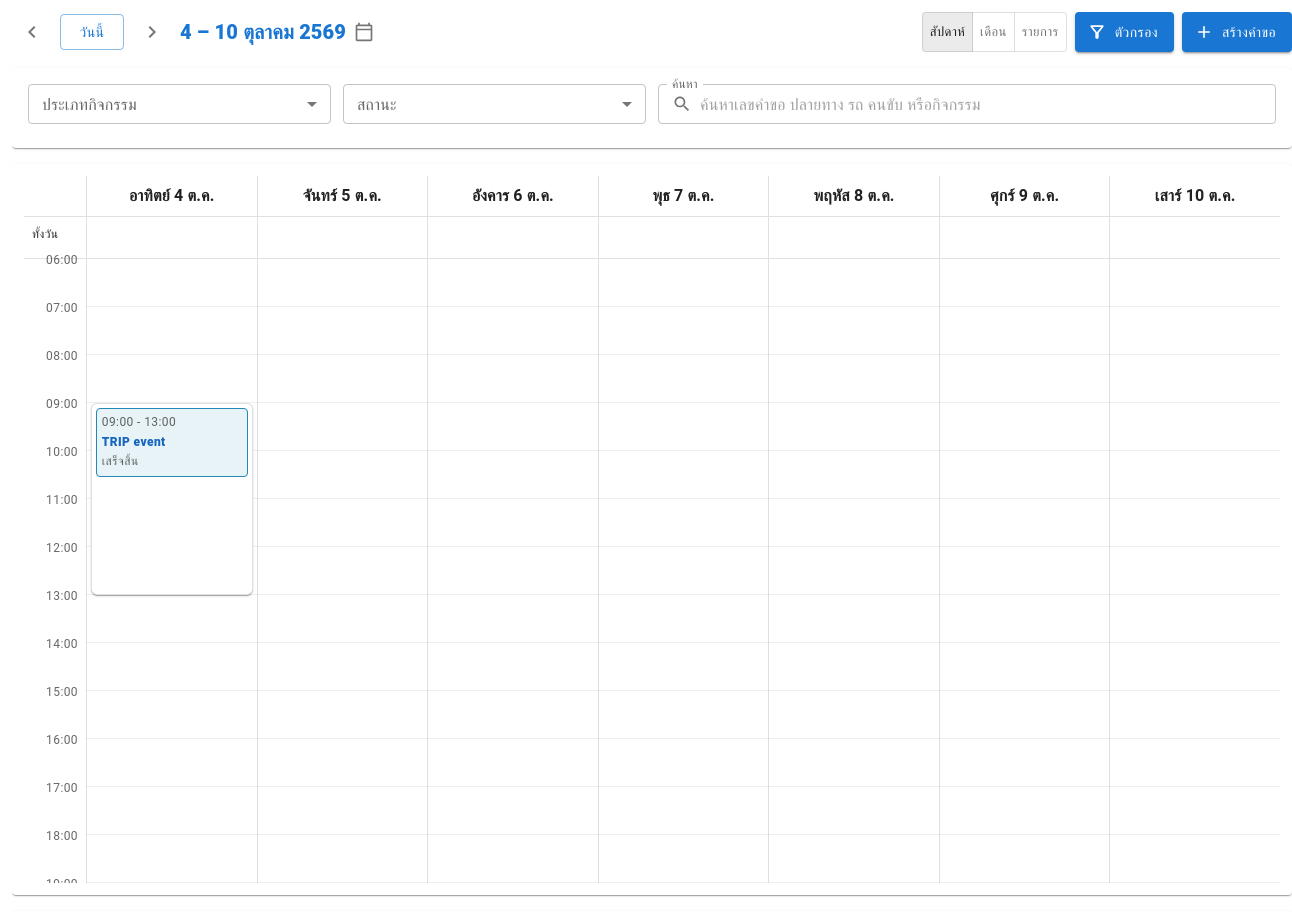
Test: FleetCalendarPage › keeps late actual completion separate from the scheduled calendar dates
Click the button "09:00 - 13:00 TRIP event เสร็จสิ้น" at x=172, y=442, box [96,408,248,477]
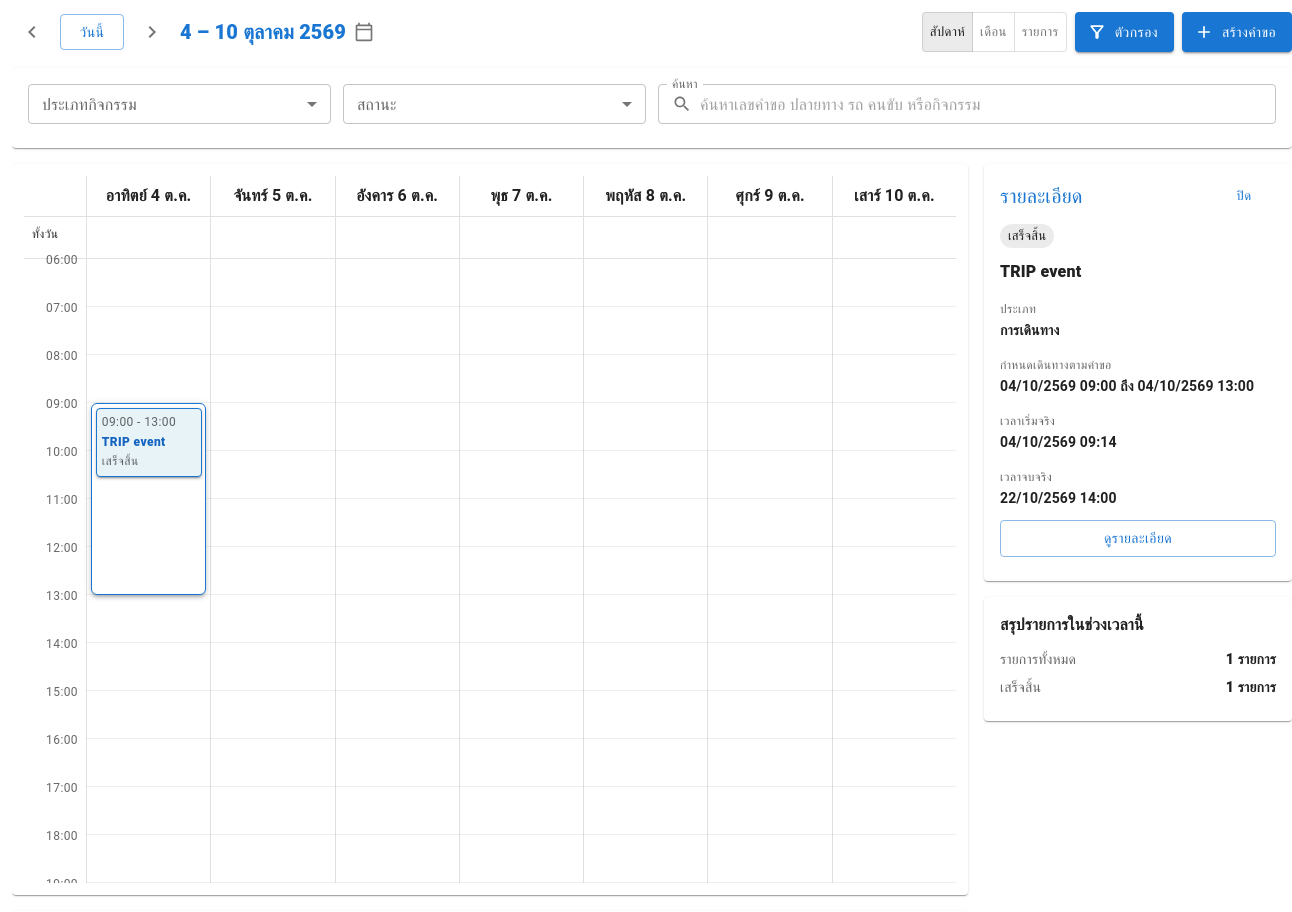
Expected: the text "04/10/2569 09:00 ถึง 04/10/2569 13:00" is shown, [1000,376,1276,396]
Expected: the text "22/10/2569 14:00" is shown, [1000,490,1117,506]
